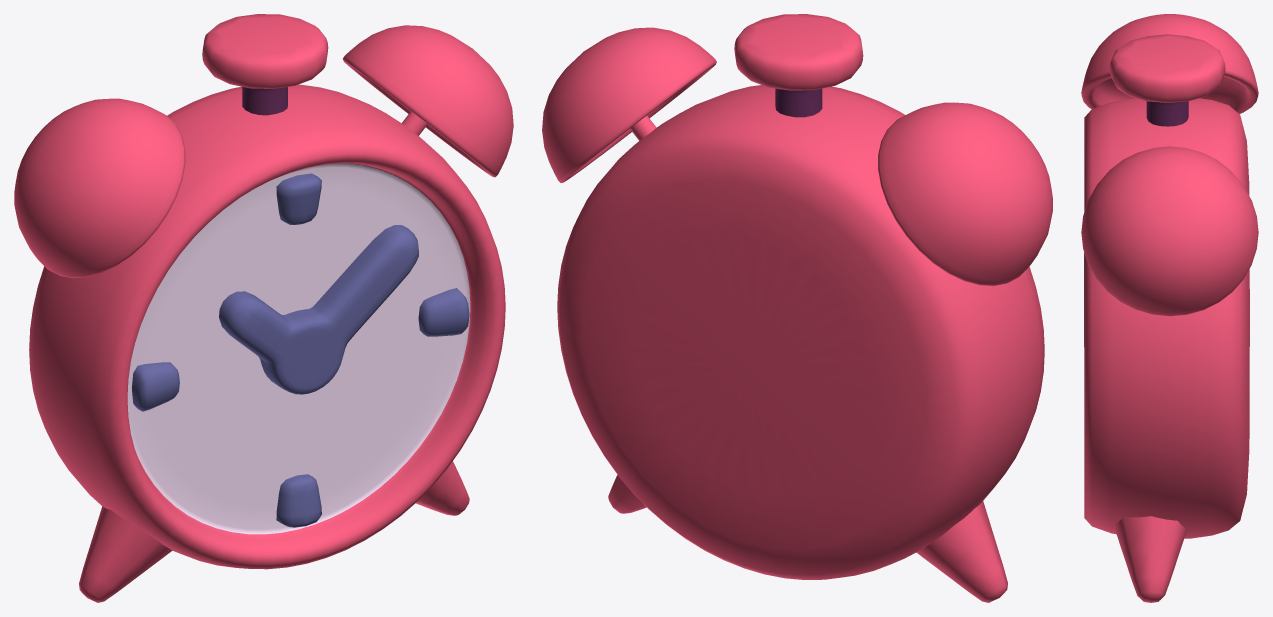
3 renders of one model, left to right at view 1: azimuth 30°, elevation 25°; view 2: azimuth 150°, elevation 25°; view 3: azimuth 270°, elevation 25°, orthographic. The views are drawn at different scales.
Parts seen in each view (by area): view 1: clock; view 2: clock; view 3: clock.
Boxes of the visible parts, bbox=[...] form: clock: bbox=[14, 14, 513, 602]; clock: bbox=[542, 14, 1052, 602]; clock: bbox=[1081, 14, 1258, 602].
Size of the model in its own units: 1.54 by 1.61 by 0.5497.
